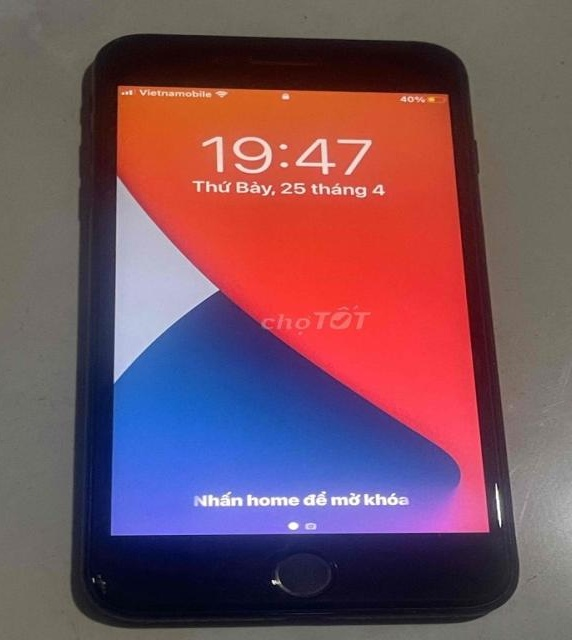scratch: (491, 472, 510, 532), (80, 564, 112, 591), (251, 570, 285, 593)
